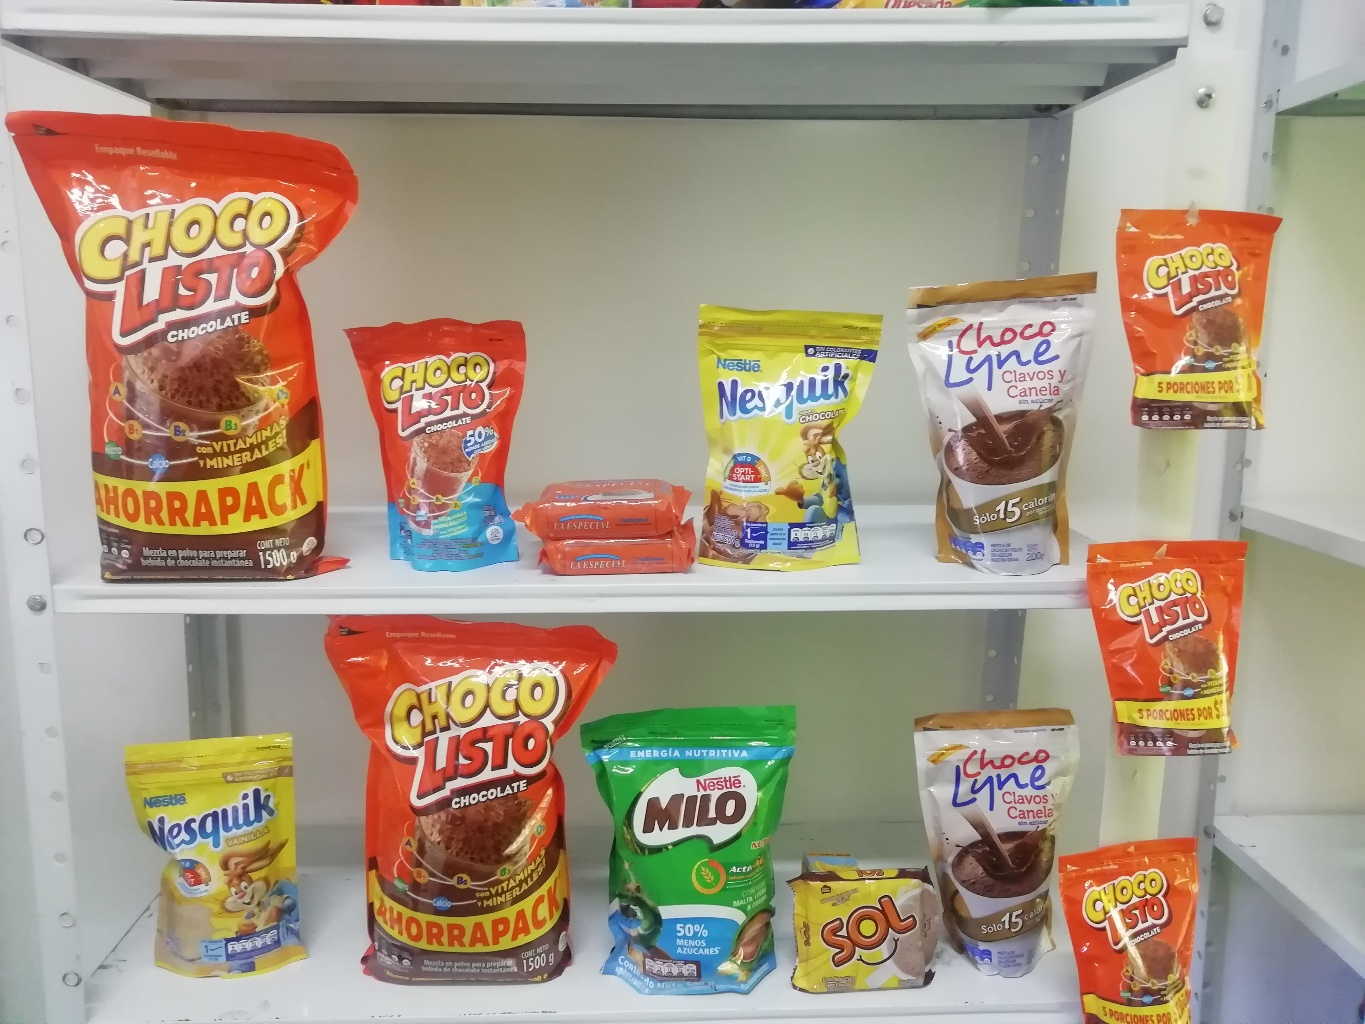COL0170103DYP1,500: (3, 112, 360, 592)
COL0170104DYP20000: (342, 316, 529, 572)
COL0170205DYP50000: (577, 707, 797, 994)
COL0170303DYP20000: (699, 300, 884, 572)
COL0170306DYP20000: (119, 739, 322, 982)
